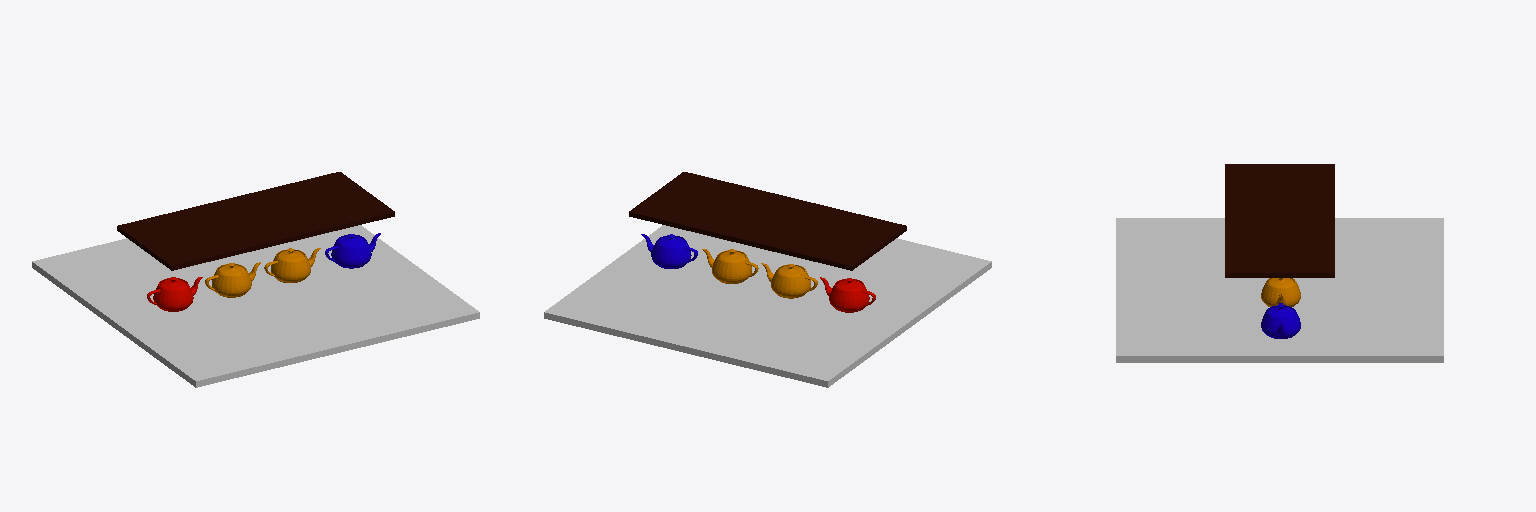
The model's file is table.obj.
3 views of the same model, side by side, from view 1: azimuth 30°, elevation 25°; view 2: azimuth 150°, elevation 25°; view 3: azimuth 270°, elevation 25° (orthographic).
Visible parts, largest first — view 1: Cube_Cube.001, Cube.001_Cube.002, teapot2.001, teapot2.003, teapot2, teapot2.002; view 2: Cube_Cube.001, Cube.001_Cube.002, teapot2, teapot2.002, teapot2.001, teapot2.003; view 3: Cube_Cube.001, Cube.001_Cube.002, teapot2.003, teapot2.002.
Boxes of the visible parts, x1,y1,x2,y2 form: Cube_Cube.001: [32, 225, 479, 387]; Cube.001_Cube.002: [117, 172, 394, 270]; teapot2.001: [205, 262, 260, 297]; teapot2.003: [325, 233, 380, 268]; teapot2: [147, 277, 202, 311]; teapot2.002: [264, 248, 320, 282]; Cube_Cube.001: [544, 225, 991, 387]; Cube.001_Cube.002: [629, 172, 906, 270]; teapot2: [820, 277, 875, 312]; teapot2.002: [702, 249, 758, 283]; teapot2.001: [761, 263, 817, 298]; teapot2.003: [641, 234, 697, 268]; Cube_Cube.001: [1116, 218, 1443, 362]; Cube.001_Cube.002: [1225, 164, 1334, 277]; teapot2.003: [1261, 303, 1300, 338]; teapot2.002: [1261, 278, 1300, 306].
Bounding box in the file's own units: 15 × 3.76 × 15.